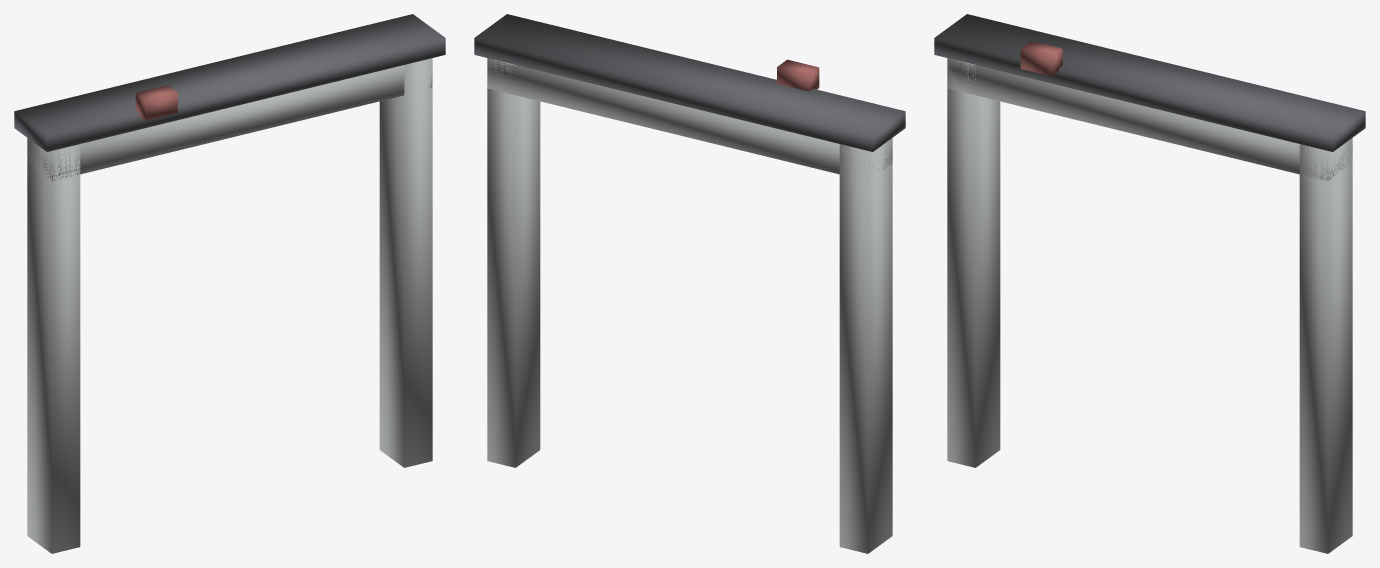
Rendered from doorway_fire_rated_w182_h200_d24.glb.
3 views of the same model, side by side, from view 1: azimuth 30°, elevation 25°; view 2: azimuth 150°, elevation 25°; view 3: azimuth 330°, elevation 25° (orthographic).
Visible parts, largest first — view 1: world; view 2: world; view 3: world.
Part boxes in pixels (x1,y1,x2,y2): world: (14, 14, 445, 553); world: (474, 14, 905, 553); world: (934, 14, 1365, 553).
Bounding box in the file's own units: 2.24 × 2.37 × 0.38.
